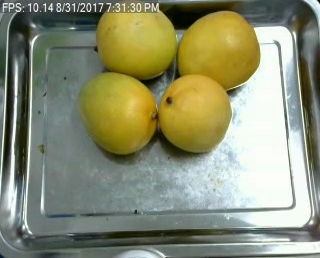Mango: (177, 11, 260, 91), (78, 72, 157, 154), (96, 1, 176, 79), (158, 76, 232, 152)
